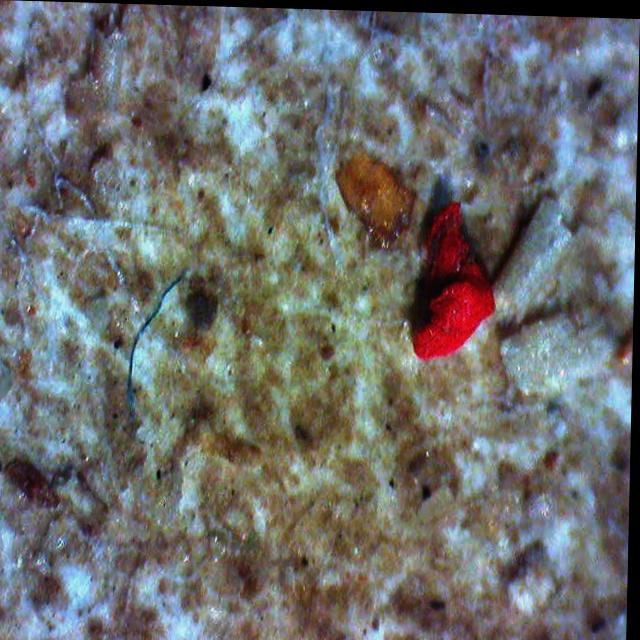microplastic: (412, 201, 496, 357), (130, 277, 184, 411)
